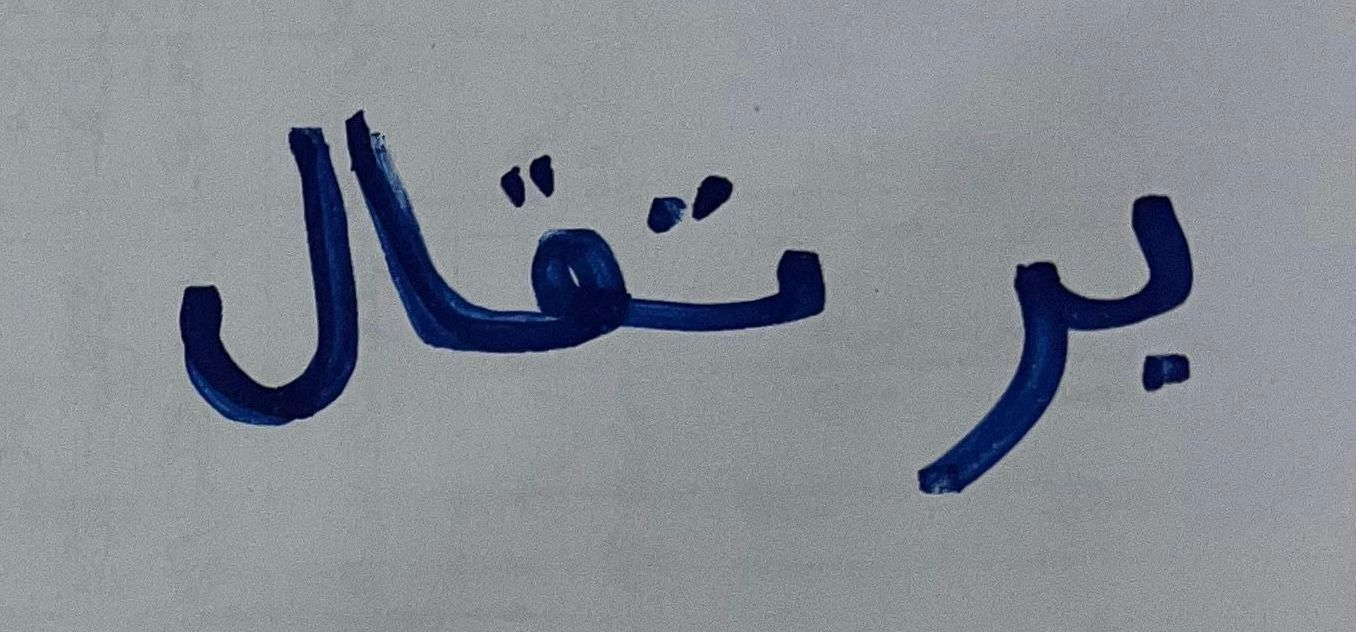lam: (173, 115, 341, 432)
qaf: (467, 135, 635, 365)
reh: (896, 212, 1073, 511)
teh: (640, 141, 843, 365)
teh_marbota: (370, 97, 458, 367)
yeh: (1079, 158, 1255, 408)
